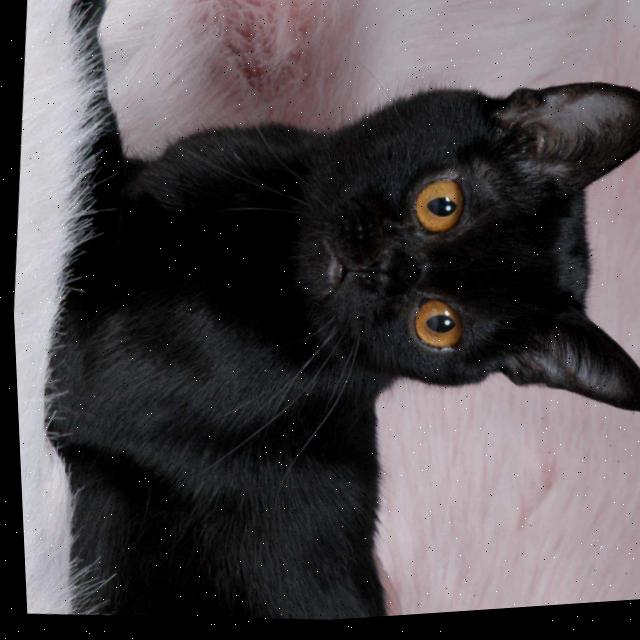Bombay: (2, 0, 640, 640)
